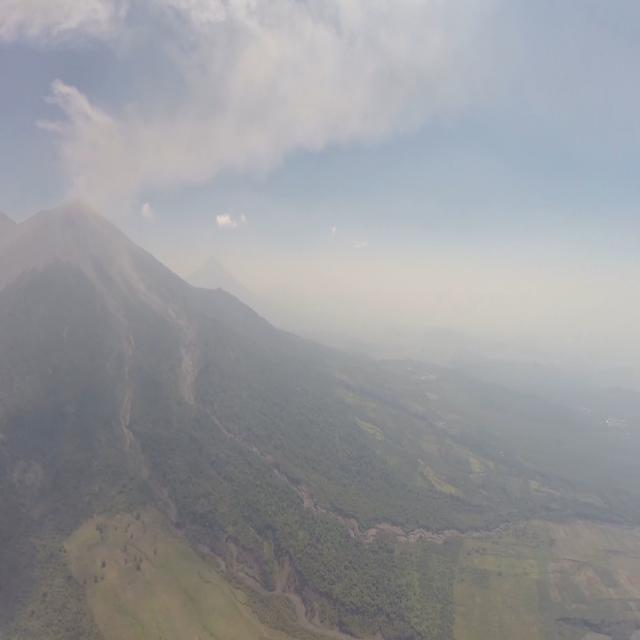Plume: (40, 82, 147, 214), (0, 0, 132, 50)
